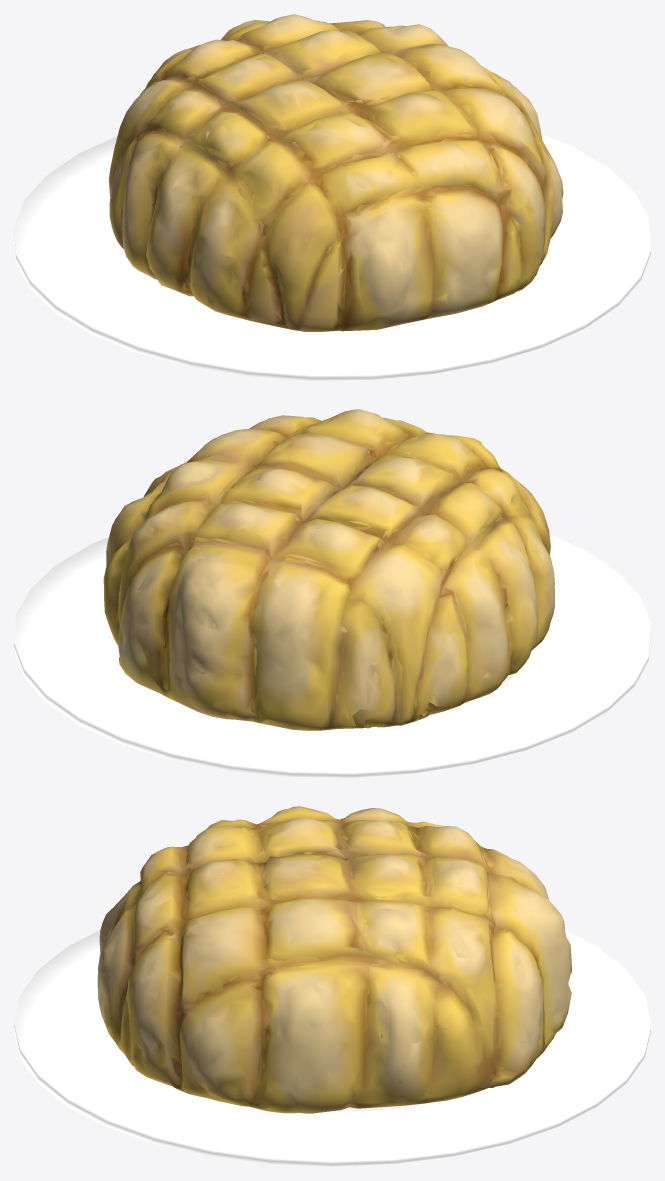
File: melon_pan (1).glb
The picture shows the model from 3 angles, top to bottom: view 1: azimuth 30°, elevation 25°; view 2: azimuth 150°, elevation 25°; view 3: azimuth 270°, elevation 25°; orthographic projection.
Parts seen in each view (by area): view 1: Sphere_0, Cylinder_1; view 2: Sphere_0, Cylinder_1; view 3: Sphere_0, Cylinder_1.
Boxes of the visible parts, box(x1,y1,x2,y2) form: Sphere_0: box(108, 14, 563, 331); Cylinder_1: box(14, 134, 650, 380); Sphere_0: box(103, 409, 554, 730); Cylinder_1: box(14, 534, 650, 777); Sphere_0: box(97, 806, 571, 1113); Cylinder_1: box(14, 930, 650, 1166).
Size of the model in its own units: 2 by 0.6422 by 2.
